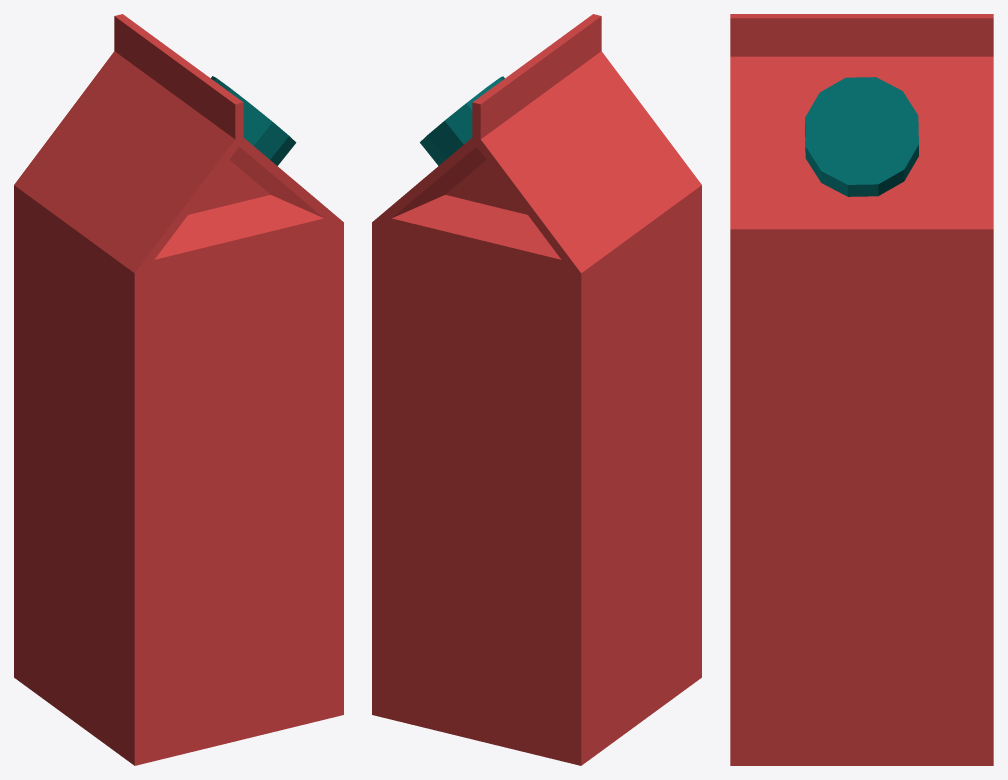
Rendered from Kitchen_SmallProps_Carton_Juice.fbx.
The picture shows the model from 3 angles, left to right: view 1: azimuth 30°, elevation 25°; view 2: azimuth 150°, elevation 25°; view 3: azimuth 270°, elevation 25°; orthographic projection. The views are drawn at different scales.
Parts seen in each view (by area): view 1: Juice; view 2: Juice; view 3: Juice.
Part boxes in pixels (x1,y1,x2,y2): Juice: (14, 14, 343, 765); Juice: (372, 14, 701, 765); Juice: (730, 14, 993, 765).
Size of the model in its own units: 101 by 291 by 100.
